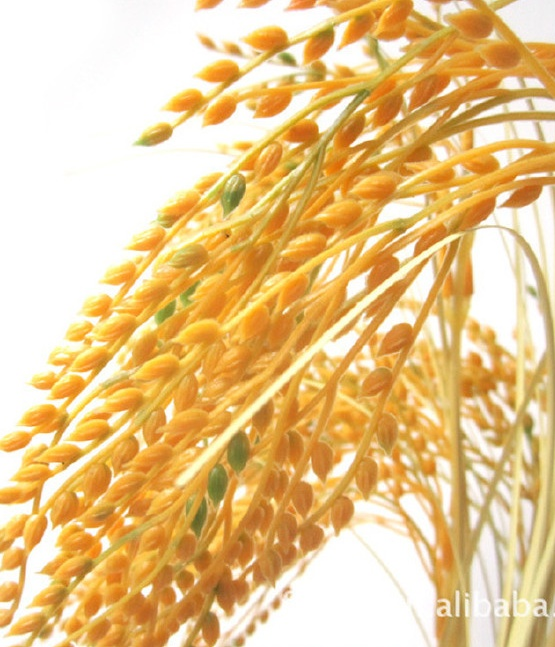rice: (16, 3, 545, 622)
